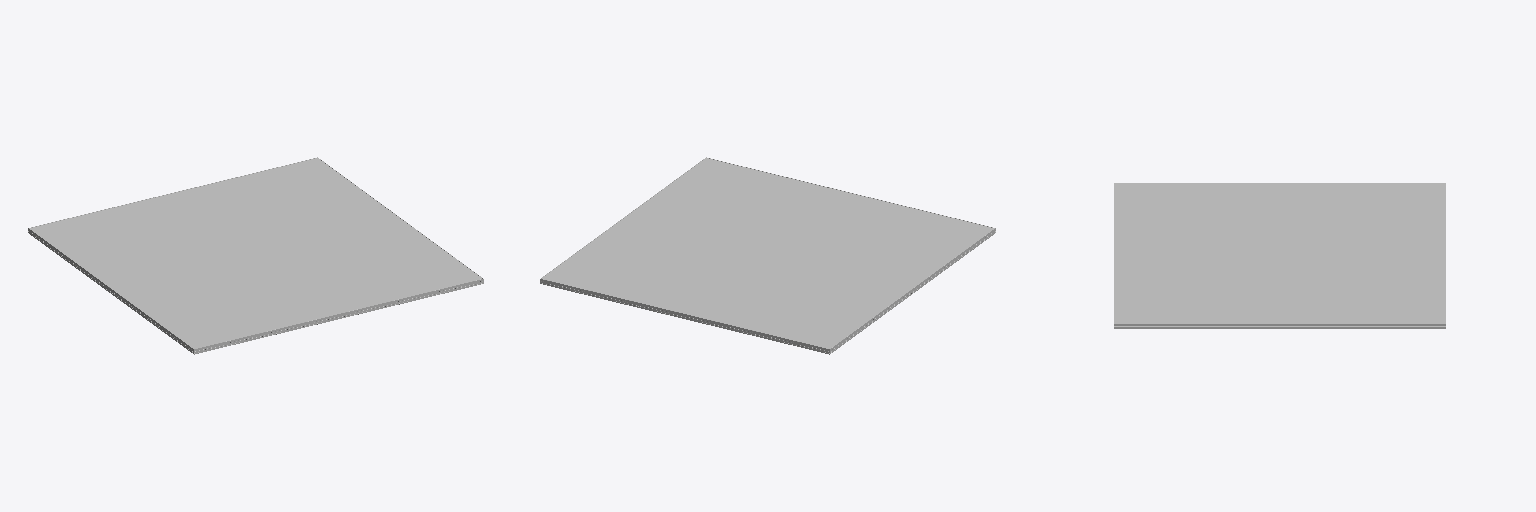
The model's file is IM-600x600A-40W vray 2015.obj.
3 renders of one model, left to right at view 1: azimuth 30°, elevation 25°; view 2: azimuth 150°, elevation 25°; view 3: azimuth 270°, elevation 25°, orthographic.
Visible parts, largest first — view 1: Bodylight; view 2: Bodylight; view 3: Bodylight.
Boxes of the visible parts, box(x1,y1,x2,y2) form: Bodylight: box(28, 157, 483, 354); Bodylight: box(540, 157, 995, 354); Bodylight: box(1114, 183, 1445, 328).
Size of the model in its own units: 600 by 10.4 by 595.